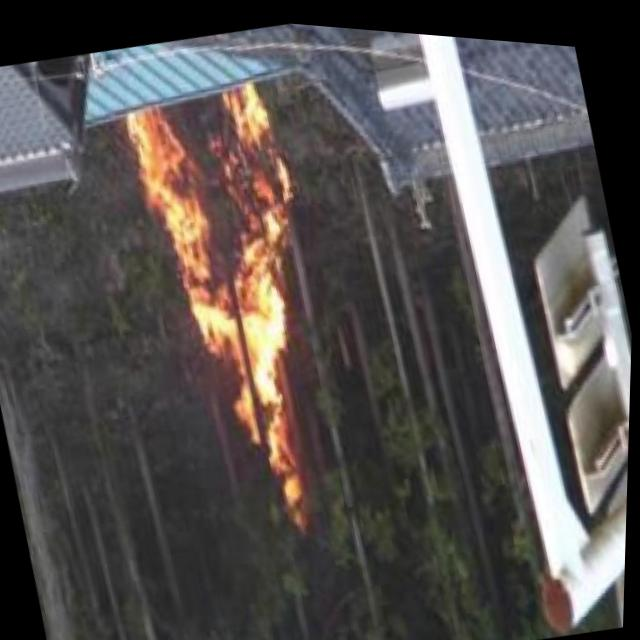Fire: (115, 66, 360, 493)
